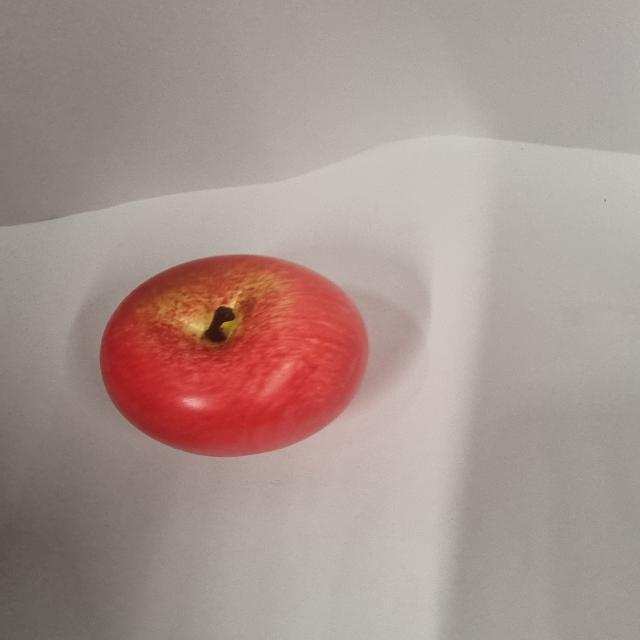apple: (98, 252, 368, 457)
